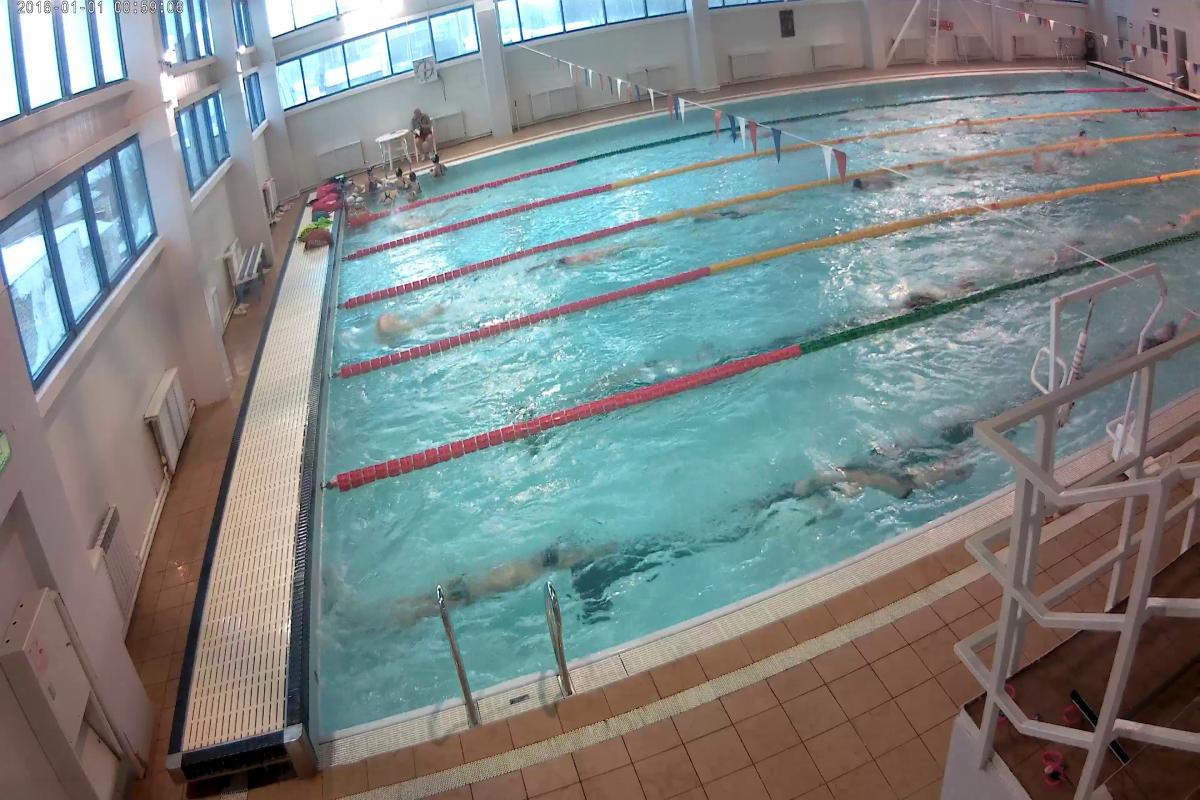swimmer: (398, 546, 618, 618), (797, 456, 980, 495)
